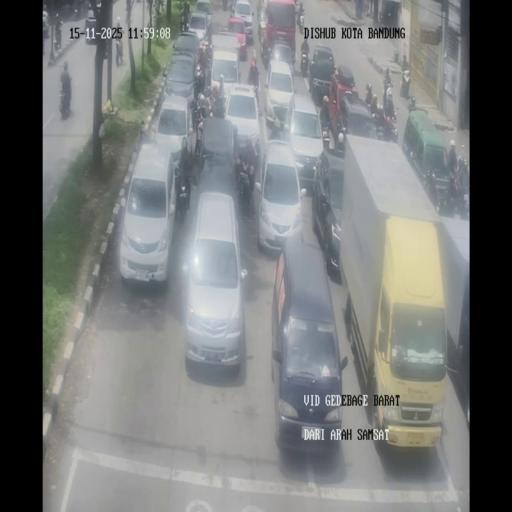car: (271, 237, 343, 452), (182, 190, 247, 370), (119, 144, 177, 286), (314, 148, 344, 277), (285, 94, 323, 186), (195, 114, 239, 190), (153, 95, 192, 173), (337, 92, 379, 148), (209, 43, 242, 105), (163, 52, 198, 110), (308, 45, 337, 101), (268, 38, 296, 77), (226, 16, 250, 56), (186, 10, 210, 42), (85, 7, 101, 44), (42, 10, 49, 36)
motorcycle: (175, 163, 192, 215), (236, 164, 254, 210), (376, 111, 399, 143), (191, 93, 205, 139), (437, 184, 456, 216), (248, 74, 260, 109), (212, 91, 227, 119), (59, 84, 71, 119), (269, 111, 283, 140), (426, 177, 439, 208), (194, 64, 206, 95), (458, 190, 470, 220), (385, 90, 396, 120), (202, 40, 213, 69), (257, 19, 266, 54), (335, 126, 346, 154), (54, 19, 63, 51), (382, 69, 392, 97), (321, 122, 331, 150), (299, 51, 309, 77), (115, 38, 124, 66), (400, 75, 410, 99), (180, 10, 190, 33), (48, 6, 60, 25), (297, 7, 305, 33), (124, 1, 132, 24), (365, 83, 373, 106), (408, 95, 417, 113), (73, 0, 82, 16), (256, 0, 263, 18), (229, 0, 236, 16), (402, 54, 408, 72), (363, 0, 369, 18), (42, 30, 46, 56), (103, 44, 108, 60), (222, 0, 229, 11), (378, 9, 383, 23)
truck: (336, 143, 460, 447), (402, 110, 450, 210), (381, 0, 402, 27)
